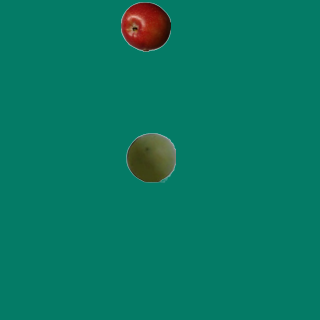Apple Braeburn: (120, 1, 170, 51)
Grape White 4: (125, 132, 175, 182)
